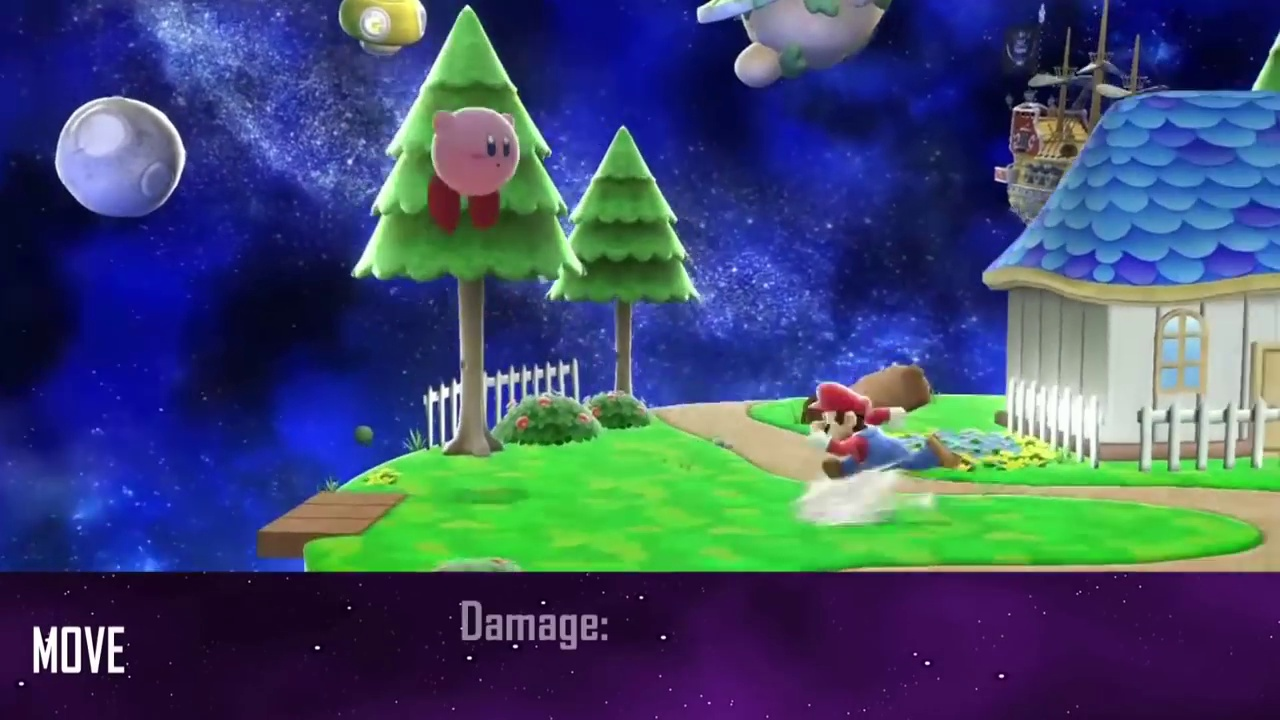Mario: (807, 380, 960, 481)
